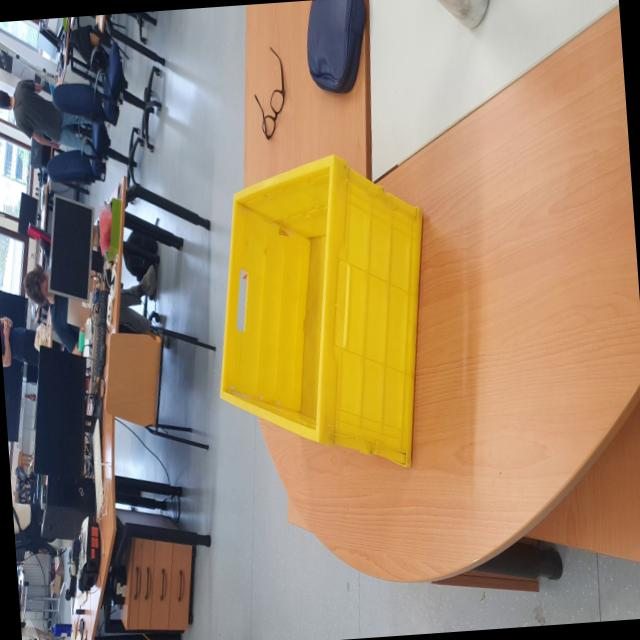box: (200, 143, 444, 496)
